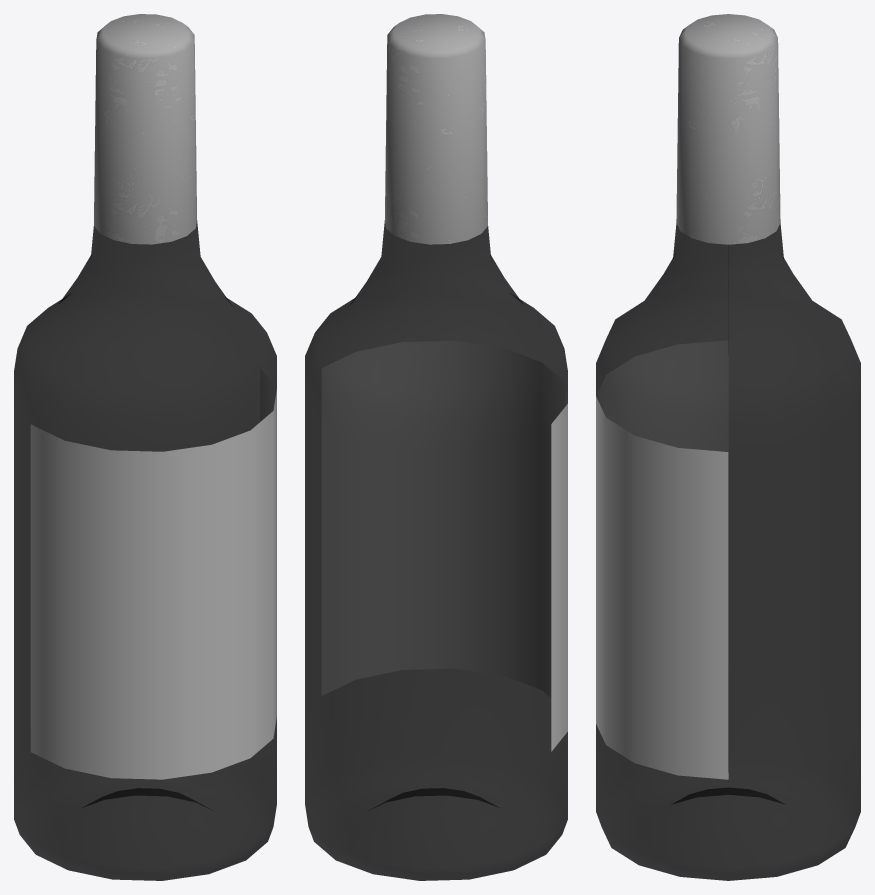
Rendered from WhiskeyBottle_02.FBX.
3 renders of one model, left to right at view 1: azimuth 30°, elevation 25°; view 2: azimuth 150°, elevation 25°; view 3: azimuth 270°, elevation 25°, orthographic.
Parts seen in each view (by area): view 1: WhiskeyBottle_02; view 2: WhiskeyBottle_02; view 3: WhiskeyBottle_02.
Part boxes in pixels (<box>): WhiskeyBottle_02: <box>14,14,276,880</box>; WhiskeyBottle_02: <box>305,14,567,880</box>; WhiskeyBottle_02: <box>596,14,860,880</box>.
Size of the model in its own units: 7.87 by 26.25 by 7.87.
